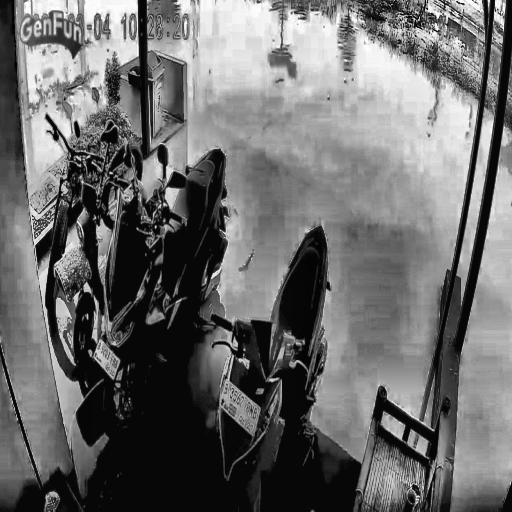banjir: (174, 0, 477, 458), (452, 129, 512, 509)
